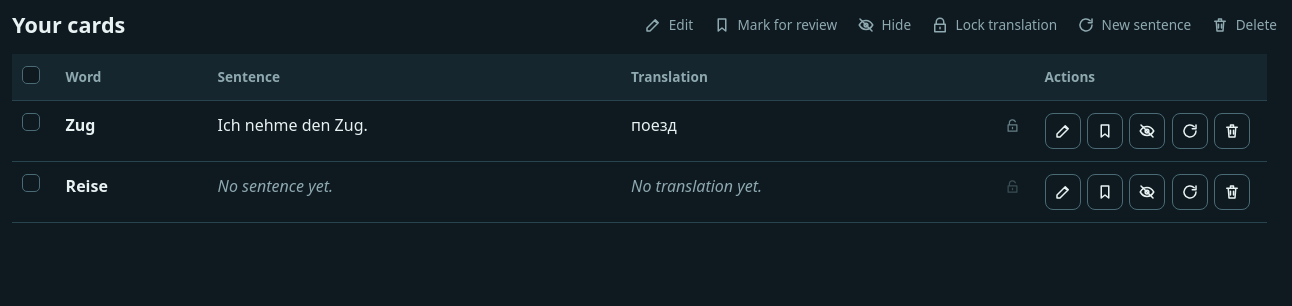
it: the bar says how many cards are selected of the cards shown
Click the checkbox named "Select Zug".
click(31, 122)  # box left=22, top=113, right=40, bottom=131
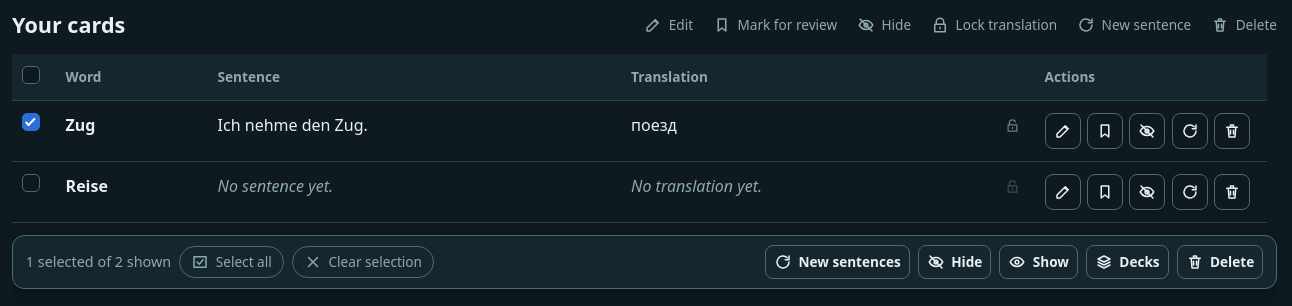
Result: the text with class "bulk-count" reads "1 selected of 2 shown" at left=26, top=250, right=171, bottom=273
